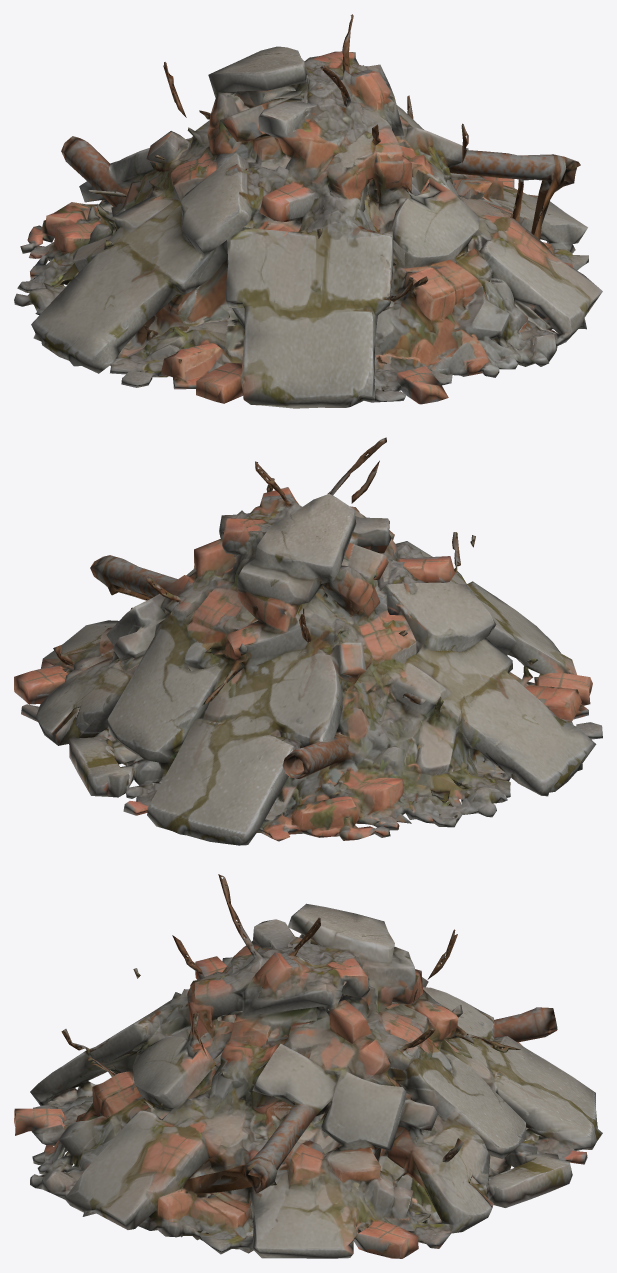
Rendered from City_Debris.fbx.
The picture shows the model from 3 angles, top to bottom: view 1: azimuth 30°, elevation 25°; view 2: azimuth 150°, elevation 25°; view 3: azimuth 270°, elevation 25°; orthographic projection. The views are drawn at different scales.
Parts seen in each view (by area): view 1: City_Debris; view 2: City_Debris; view 3: City_Debris.
Part boxes in pixels (x1,y1,x2,y2): City_Debris: (14, 14, 602, 408); City_Debris: (14, 437, 602, 845); City_Debris: (14, 874, 602, 1258).
Size of the model in its own units: 3.91 by 1.95 by 4.
Materials: 1 (1 with a texture image).
